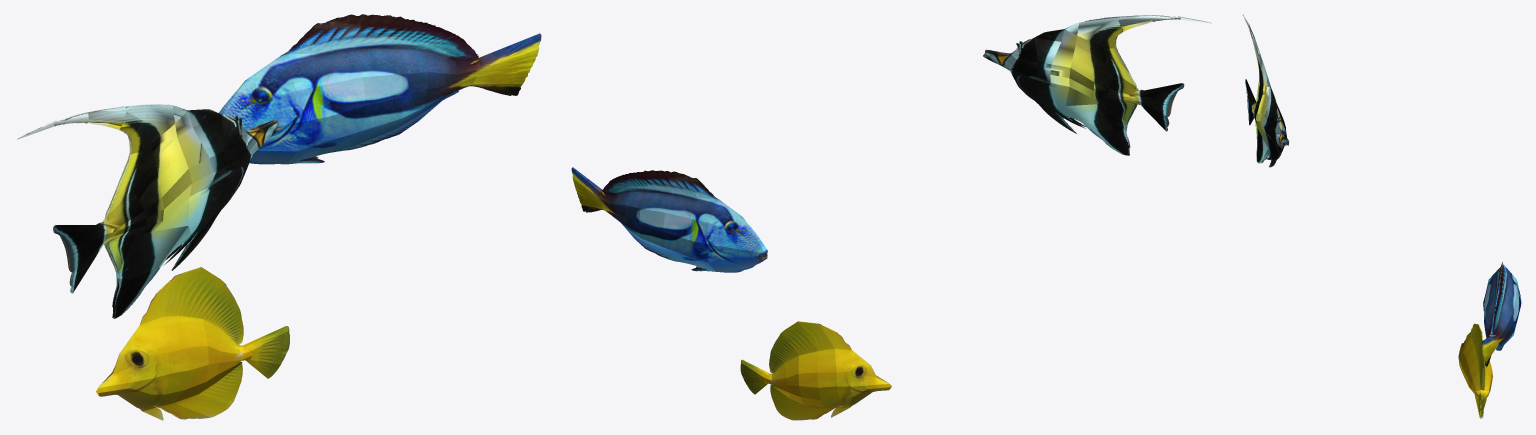
File: fish.fbx
3 views of the same model, side by side, from view 1: azimuth 30°, elevation 25°; view 2: azimuth 150°, elevation 25°; view 3: azimuth 270°, elevation 25° (orthographic). The views are drawn at different scales.
Visible parts, largest first — view 1: yu_1, yu_2_2, yu_2; view 2: yu_2_2, yu_1, yu_2; view 3: yu_2_2, yu_1, yu_2.
Boxes of the visible parts, box(x1,y1,x2,y2) form: yu_1: box(219, 14, 541, 164); yu_2_2: box(17, 104, 281, 318); yu_2: box(96, 267, 289, 420); yu_2_2: box(983, 15, 1211, 155); yu_1: box(571, 167, 767, 272); yu_2: box(740, 321, 891, 420); yu_2_2: box(1243, 15, 1289, 167); yu_1: box(1482, 262, 1521, 367); yu_2: box(1458, 323, 1492, 418).
Size of the model in its own units: 913 by 635 by 543.
3 materials, 3 textured.
